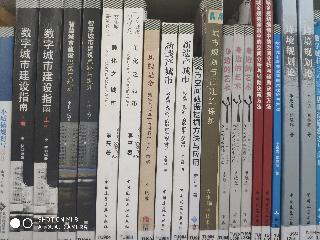book-spine: (10, 0, 39, 239), (34, 1, 63, 240), (96, 1, 122, 240), (117, 1, 143, 240), (200, 1, 223, 240), (59, 1, 82, 239), (78, 1, 100, 239), (155, 23, 178, 240), (138, 21, 159, 239), (172, 24, 193, 240), (299, 1, 316, 239), (282, 1, 298, 239), (0, 26, 13, 240), (219, 27, 232, 240), (231, 26, 244, 238), (252, 2, 263, 239), (241, 27, 253, 239), (189, 57, 202, 240), (271, 25, 280, 238), (263, 2, 271, 239)
